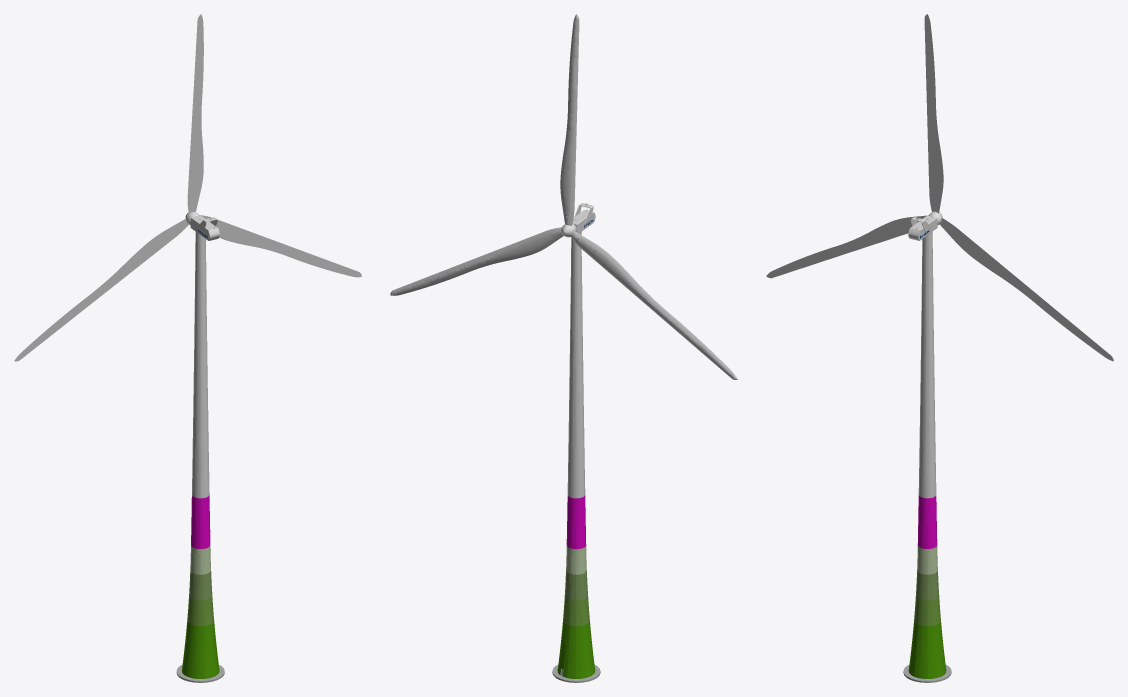
The model's file is Vestas_V126_130m.gltf.
The picture shows the model from 3 angles, left to right: view 1: azimuth 30°, elevation 25°; view 2: azimuth 150°, elevation 25°; view 3: azimuth 330°, elevation 25°; orthographic projection.
Visible parts, largest first — view 1: root; view 2: root; view 3: root.
Part boxes in pixels (bbox=[...]): root: bbox=[14, 14, 361, 682]; root: bbox=[390, 14, 737, 682]; root: bbox=[766, 14, 1113, 682].
Size of the model in its own units: 108 by 196 by 14.75.
Materials: 11 (3 with a texture image).
